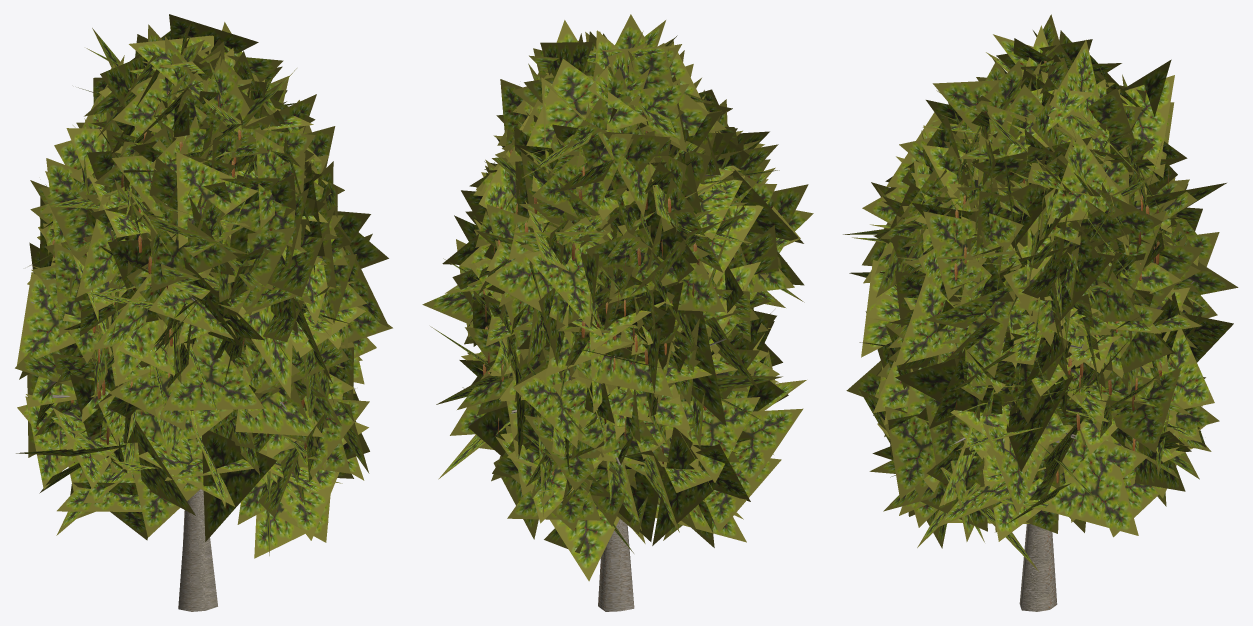
The model's file is Alnus_Rubra_Spring_Adult.glb.
The picture shows the model from 3 angles, left to right: view 1: azimuth 30°, elevation 25°; view 2: azimuth 150°, elevation 25°; view 3: azimuth 270°, elevation 25°; orthographic projection. The views are drawn at different scales.
Parts seen in each view (by area): view 1: Alnus_Rubra_Spring_Adult__LOD3; view 2: Alnus_Rubra_Spring_Adult__LOD3; view 3: Alnus_Rubra_Spring_Adult__LOD3.
Boxes of the visible parts, bbox=[...] form: Alnus_Rubra_Spring_Adult__LOD3: bbox=[15, 14, 392, 611]; Alnus_Rubra_Spring_Adult__LOD3: bbox=[422, 14, 813, 611]; Alnus_Rubra_Spring_Adult__LOD3: bbox=[843, 14, 1238, 611].
Bounding box in the file's own units: 14.39 × 23.11 × 14.69.
Materials: 3 (3 with a texture image).
